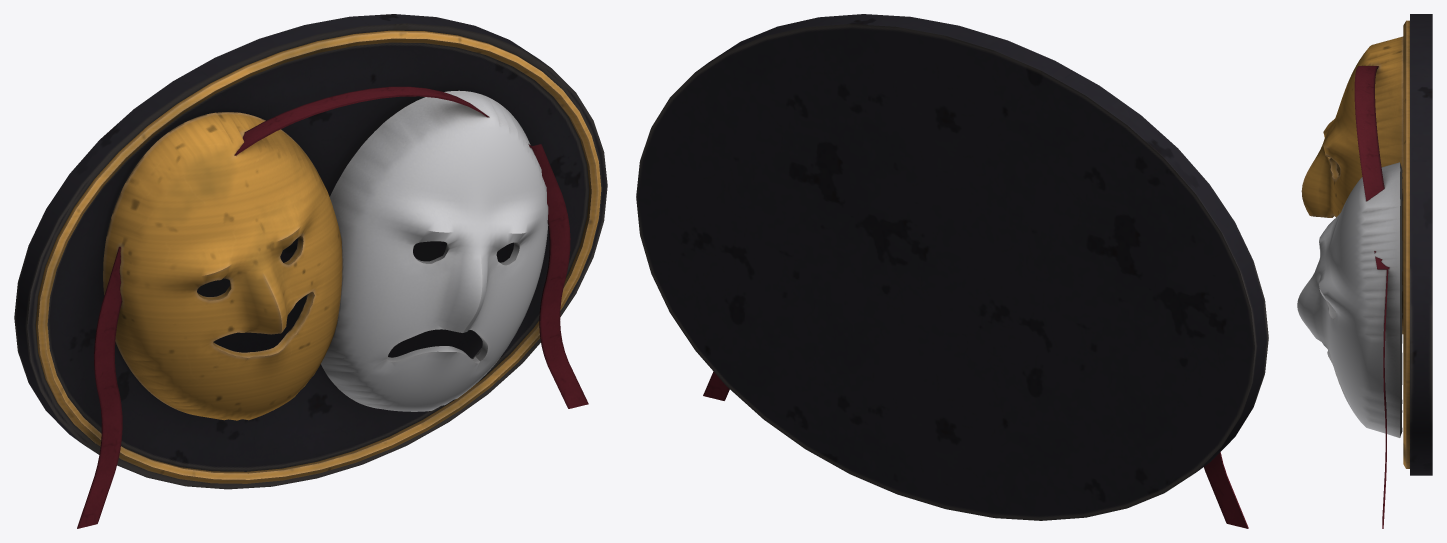
The model's file is TheatreMasks.fbx.
3 views of the same model, side by side, from view 1: azimuth 30°, elevation 25°; view 2: azimuth 150°, elevation 25°; view 3: azimuth 270°, elevation 25° (orthographic). The views are drawn at different scales.
Visible parts, largest first — view 1: TheatreMasks; view 2: TheatreMasks; view 3: TheatreMasks.
Part boxes in pixels (x1,y1,x2,y2): TheatreMasks: (14, 14, 607, 528); TheatreMasks: (636, 14, 1268, 528); TheatreMasks: (1297, 14, 1432, 528).
Bounding box in the file's own units: 260 × 190 × 59.86.
